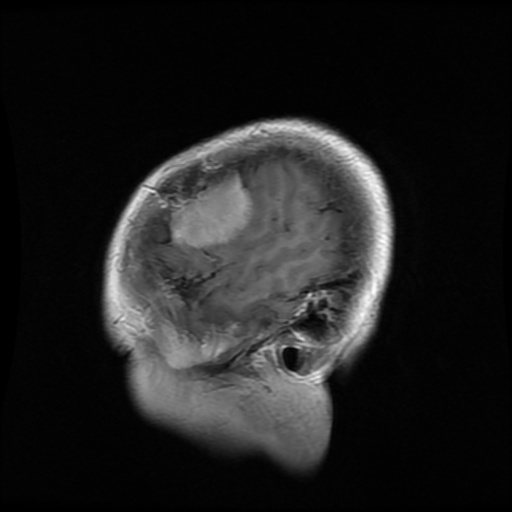meningioma: (169, 171, 254, 247)
